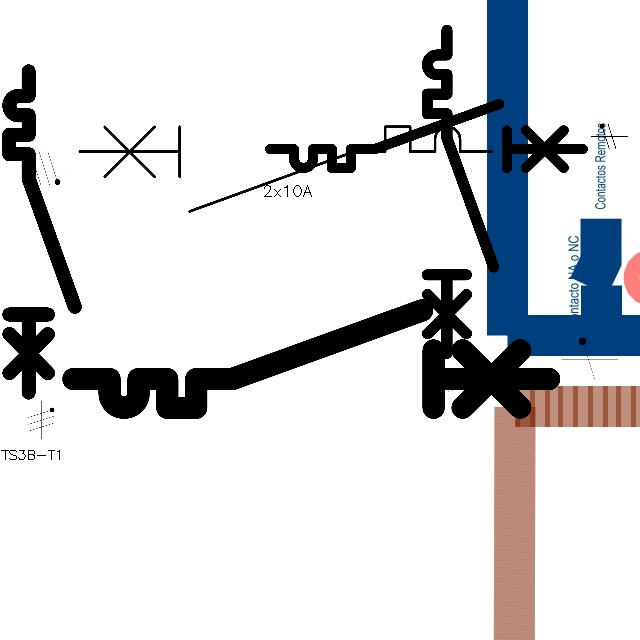interruptor_termomagnetico: (61, 298, 561, 420), (69, 116, 502, 222), (419, 22, 502, 362), (1, 63, 83, 401), (262, 96, 591, 176)
